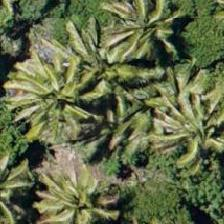coconut_tree: (10, 52, 100, 142), (138, 74, 223, 164), (96, 0, 186, 73), (39, 171, 129, 223)
